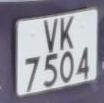0: (57, 49, 78, 87)
4: (75, 42, 93, 87)
5: (41, 50, 60, 92)
7: (22, 49, 43, 97)
K: (59, 12, 77, 56)
V: (41, 17, 60, 56)
